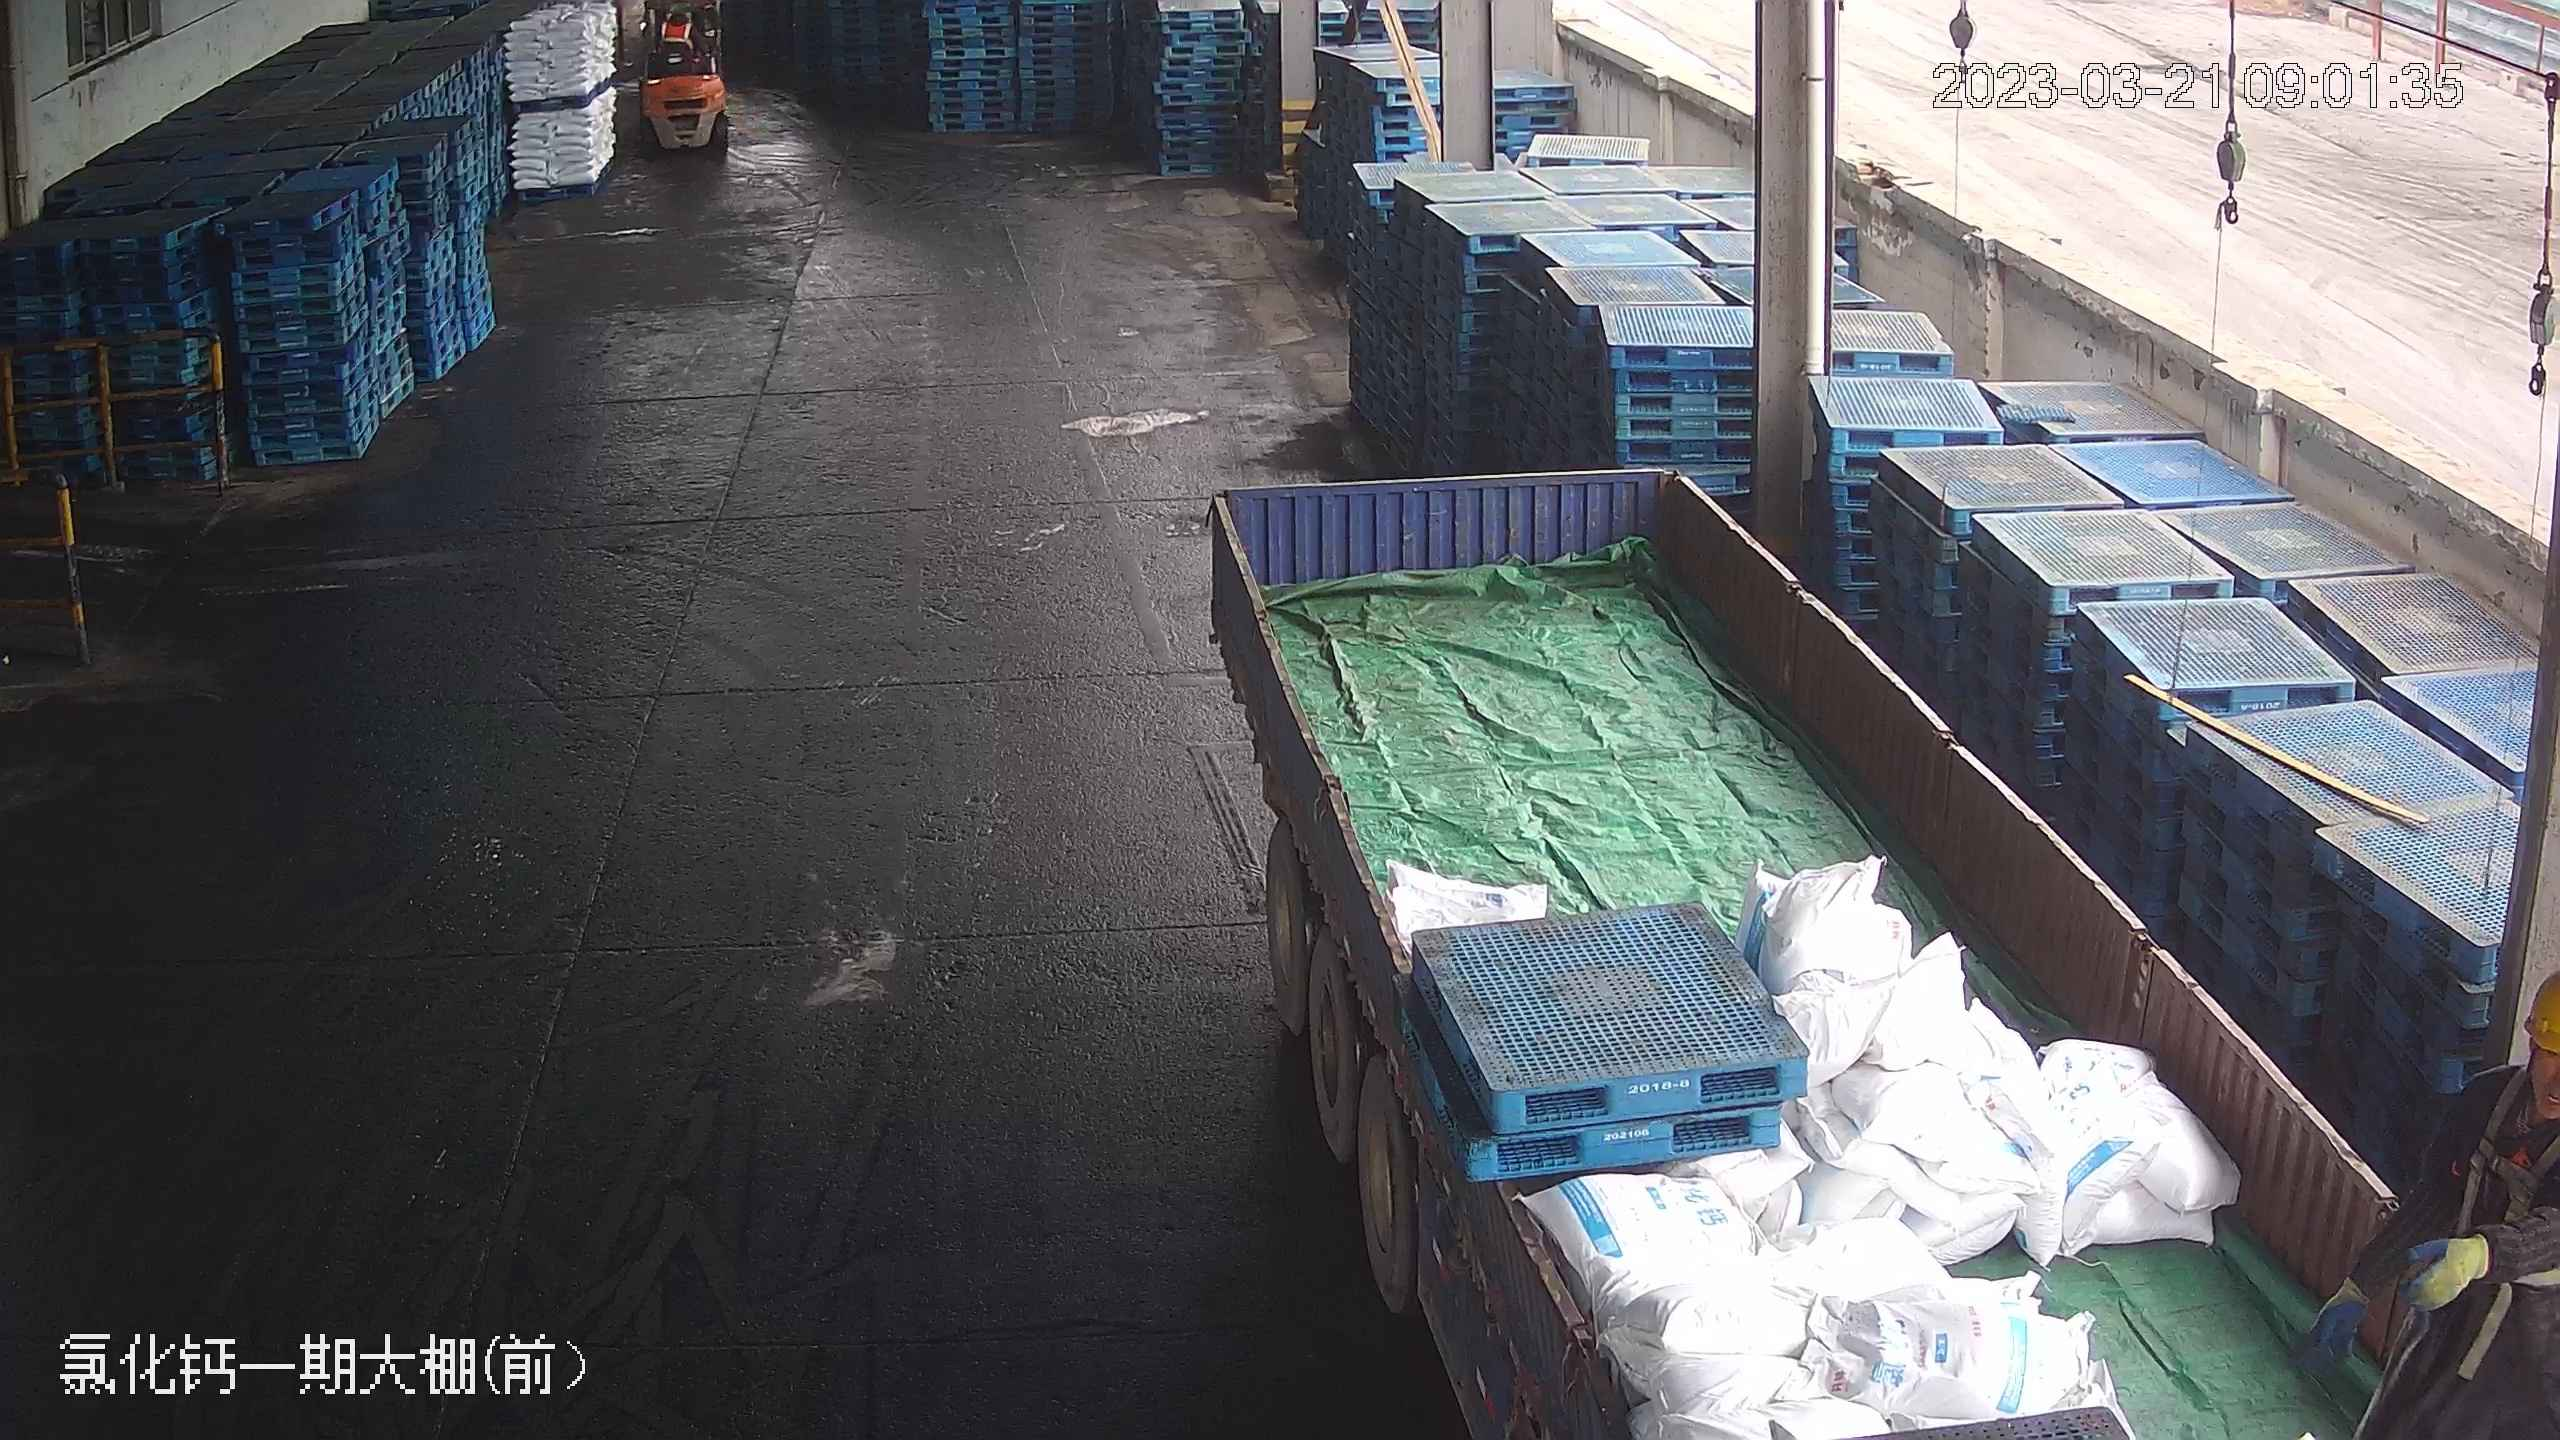belt: (2481, 1070, 2558, 1213)
helmet: (2523, 966, 2559, 1061)
people: (2308, 958, 2552, 1440)
truck: (1176, 448, 2498, 1440)
